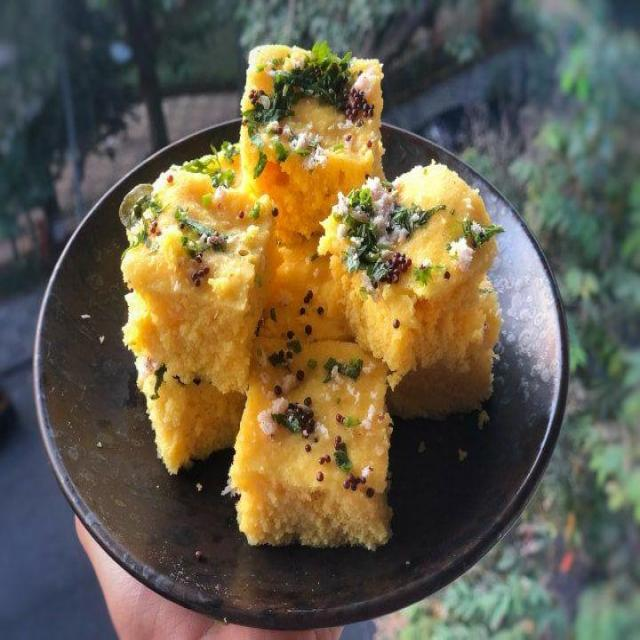dhokla: (124, 53, 506, 547)
